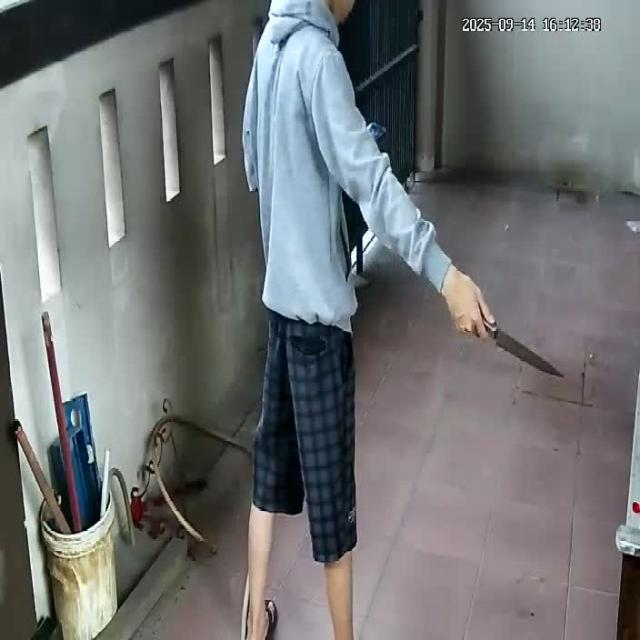senjata_tajam: (485, 322, 568, 382)
